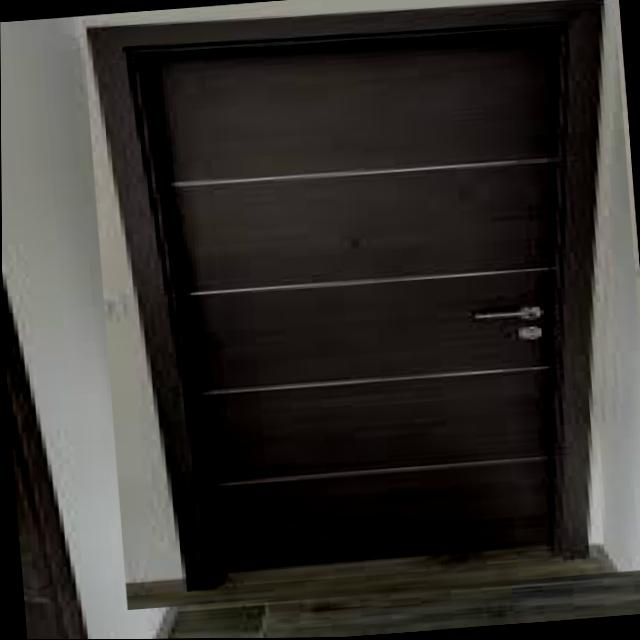close: (81, 0, 639, 612)
